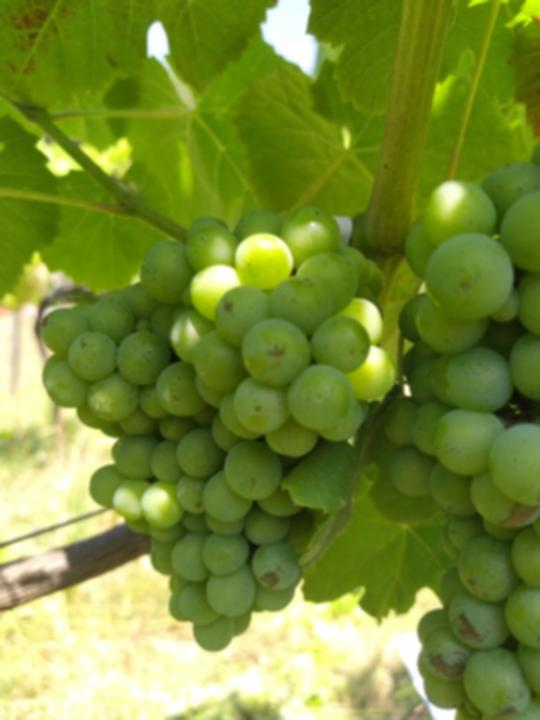grape: (43, 206, 396, 652)
